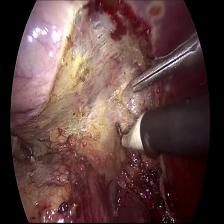Grasper: (126, 29, 199, 103)
Hook: (112, 109, 145, 165)
